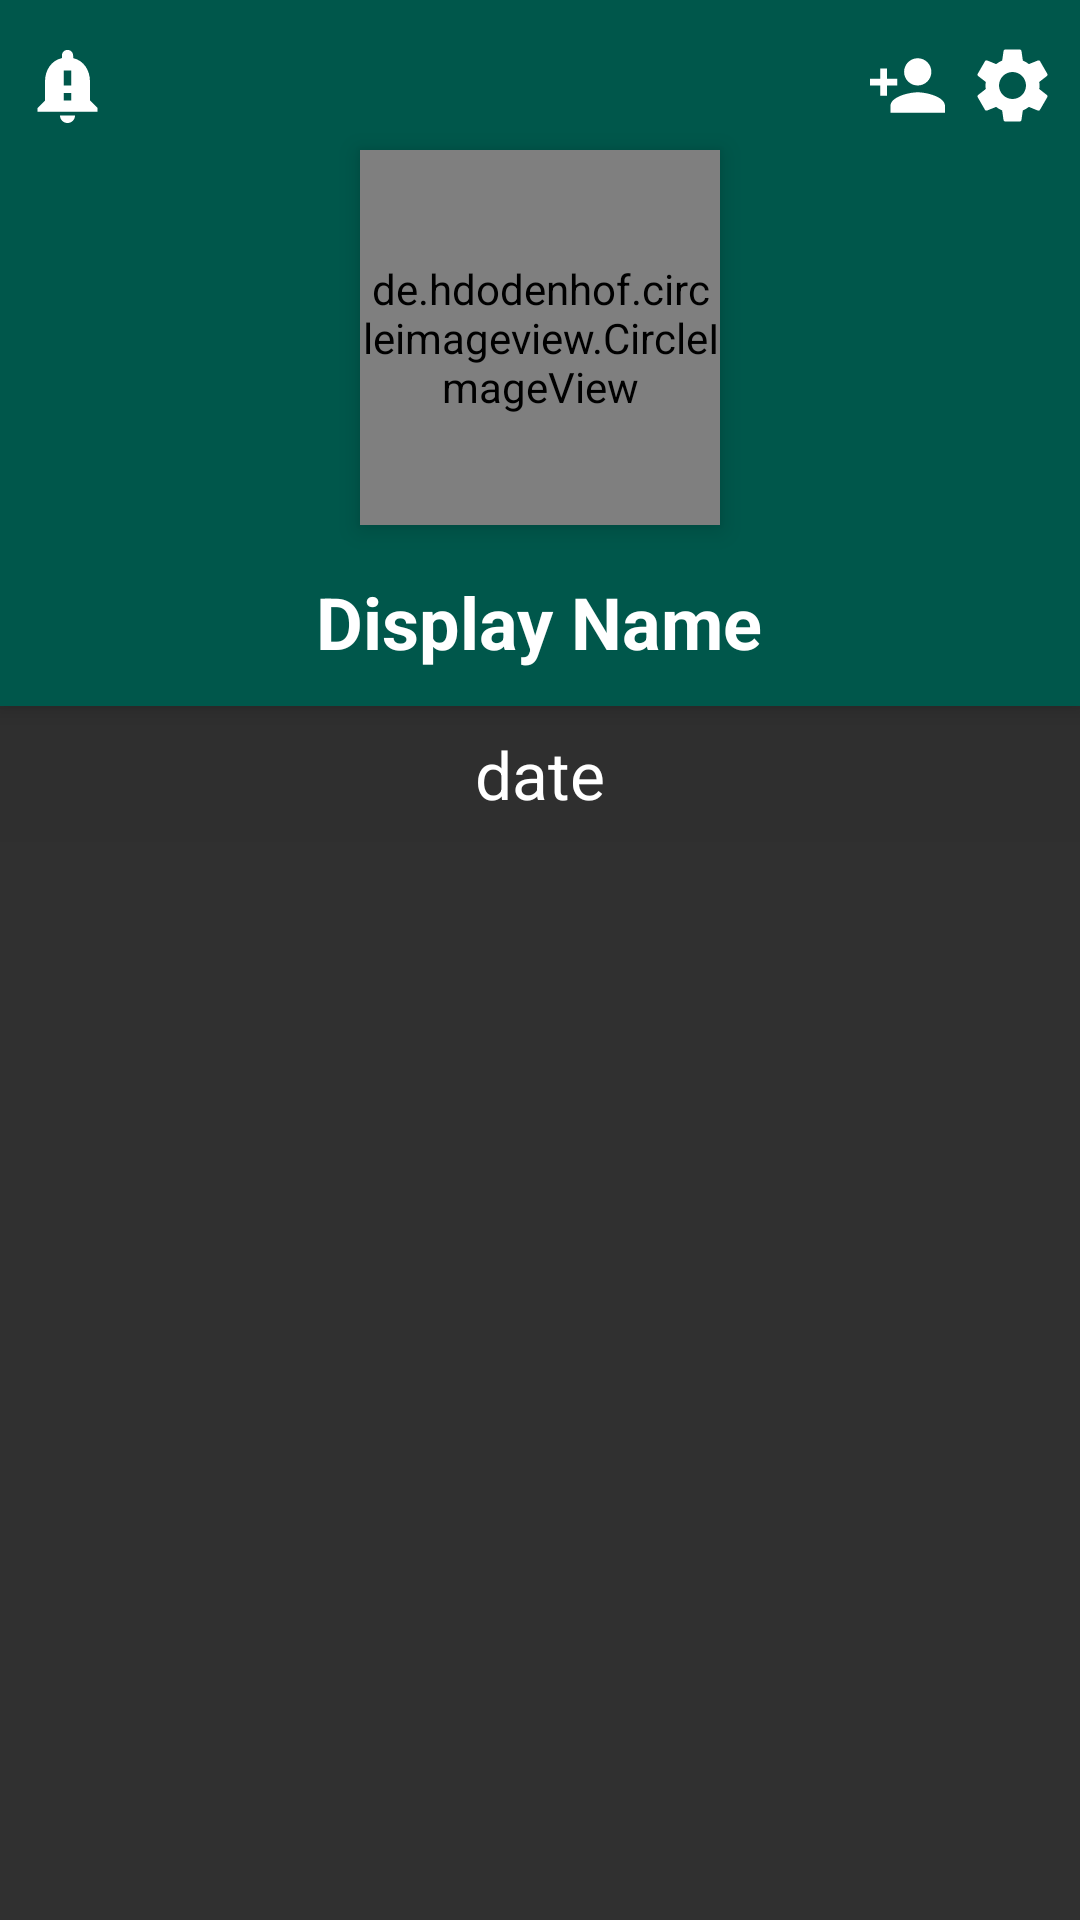

Screen size 1080w x 1920h. Icon name, then its box in pixels as BBox(x1, y1, x2, y2):
home friends: BBox(870, 58, 945, 113)
home settings: BBox(977, 49, 1048, 122)
notification bell: BBox(37, 50, 98, 123)
